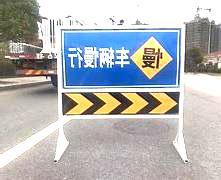sign: (58, 28, 181, 116)
